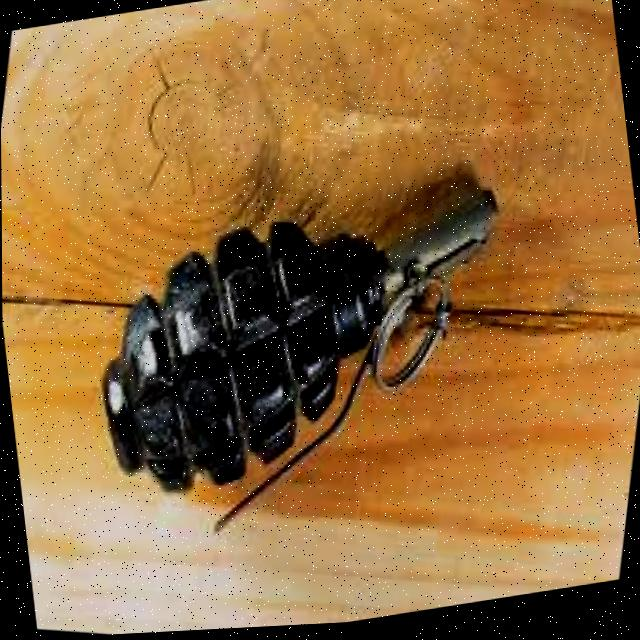grenade: (59, 106, 534, 560)
